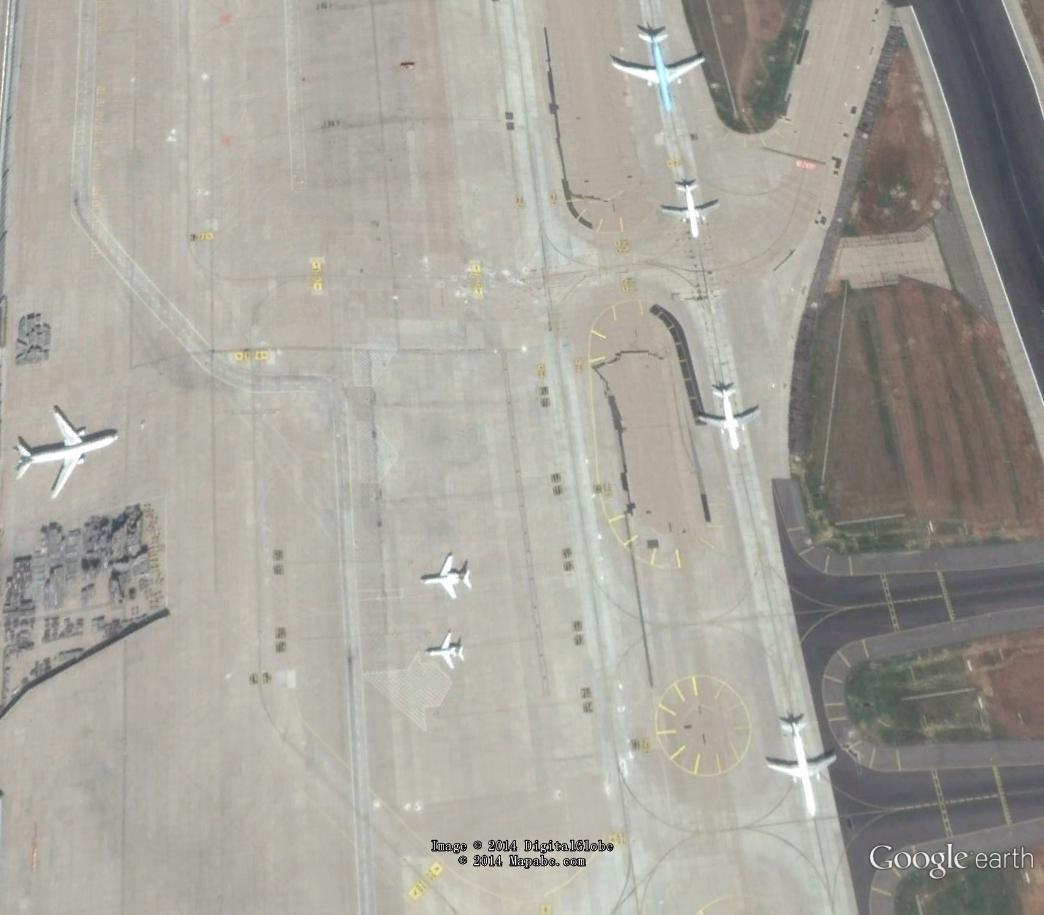aircraft: (10, 408, 123, 501), (607, 27, 711, 117), (762, 717, 846, 822), (696, 381, 765, 454), (658, 175, 723, 244), (420, 552, 478, 604), (424, 628, 469, 676)
